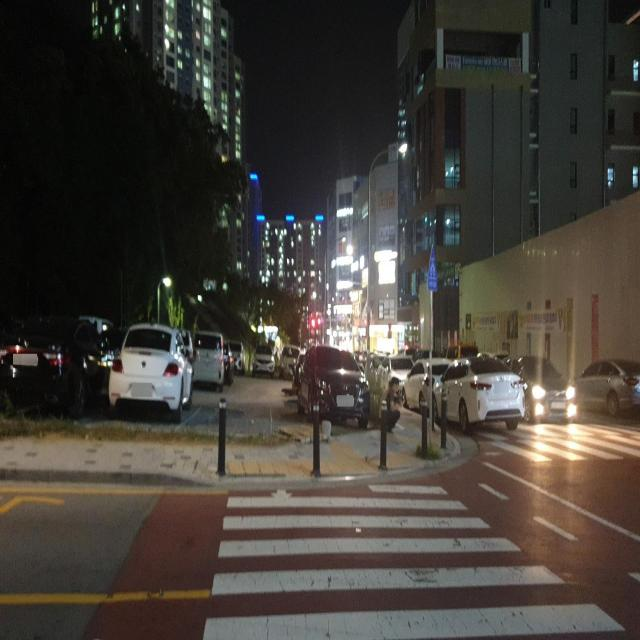횡단보도: (200, 482, 627, 639), (474, 404, 639, 463)
